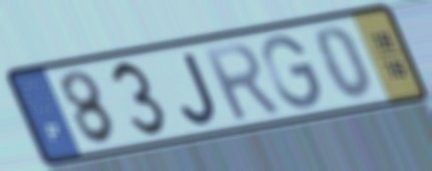0: (312, 22, 378, 104)
3: (111, 57, 170, 143)
8: (59, 68, 119, 147)
G: (259, 32, 324, 112)
J: (177, 49, 221, 128)
R: (197, 40, 284, 124)
